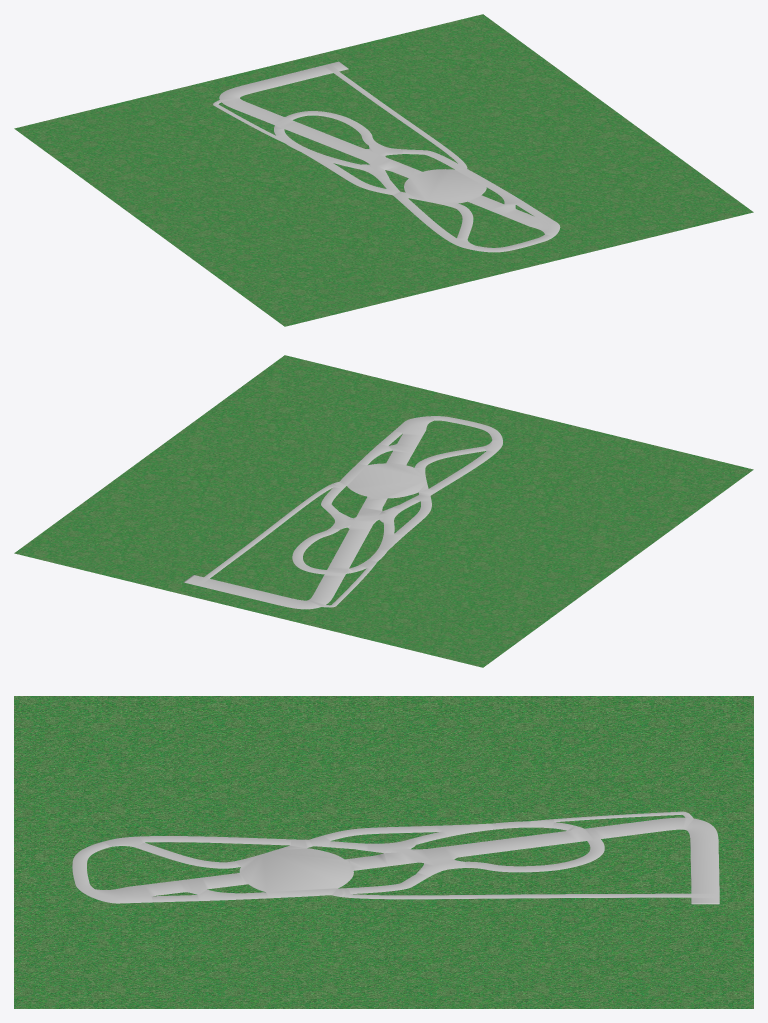
Rendered from mring.fbx.
3 views of the same model, one above another, from view 1: azimuth 30°, elevation 25°; view 2: azimuth 150°, elevation 25°; view 3: azimuth 270°, elevation 25° (orthographic). The views are drawn at different scales.
Visible parts, largest first — view 1: 2GRASS, 1ROAD; view 2: 2GRASS, 1ROAD; view 3: 2GRASS, 1ROAD.
Boxes of the visible parts, x1,y1,x2,y2 form: 2GRASS: (14,14,753,326); 1ROAD: (213,61,560,252); 2GRASS: (14,355,753,667); 1ROAD: (183,416,502,609); 2GRASS: (14,696,753,1008); 1ROAD: (72,811,719,904).
Bounding box in the file's own units: 487 × 0.1427 × 487.
